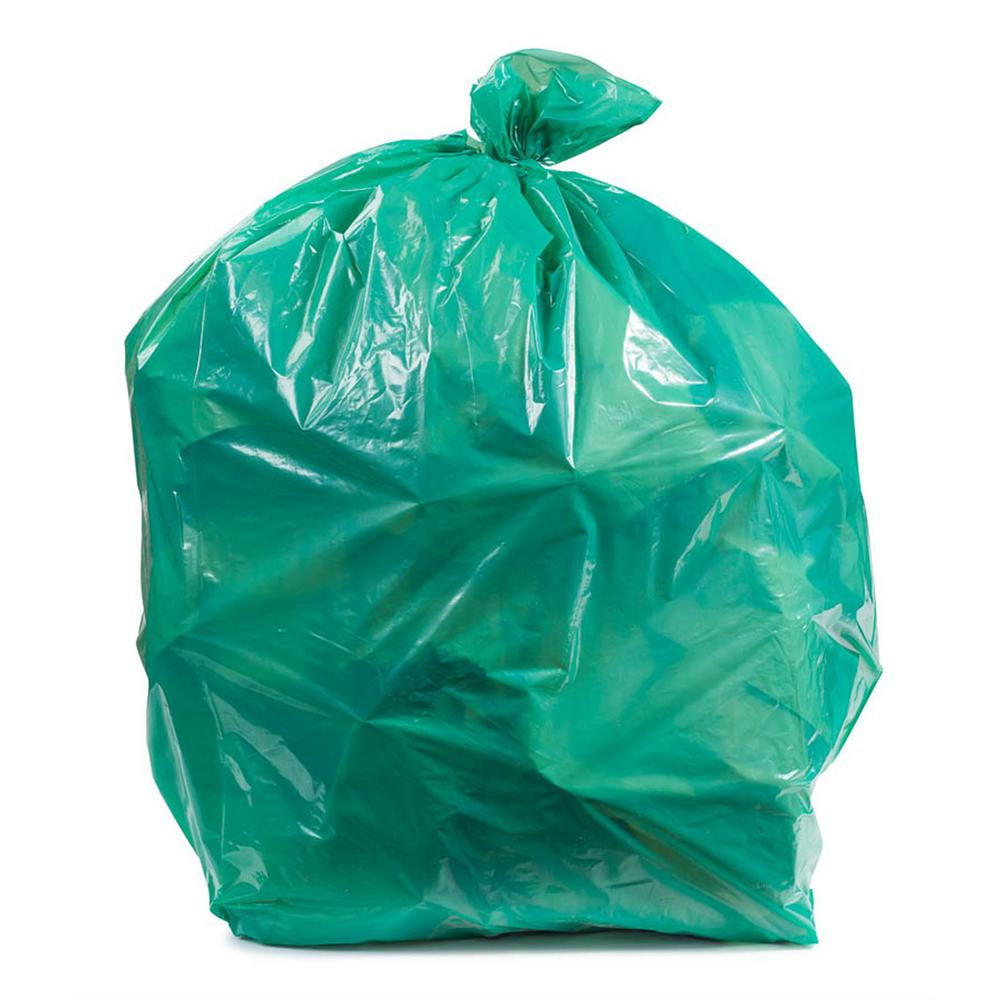plastic_bagwdw: (41, 33, 916, 994)
